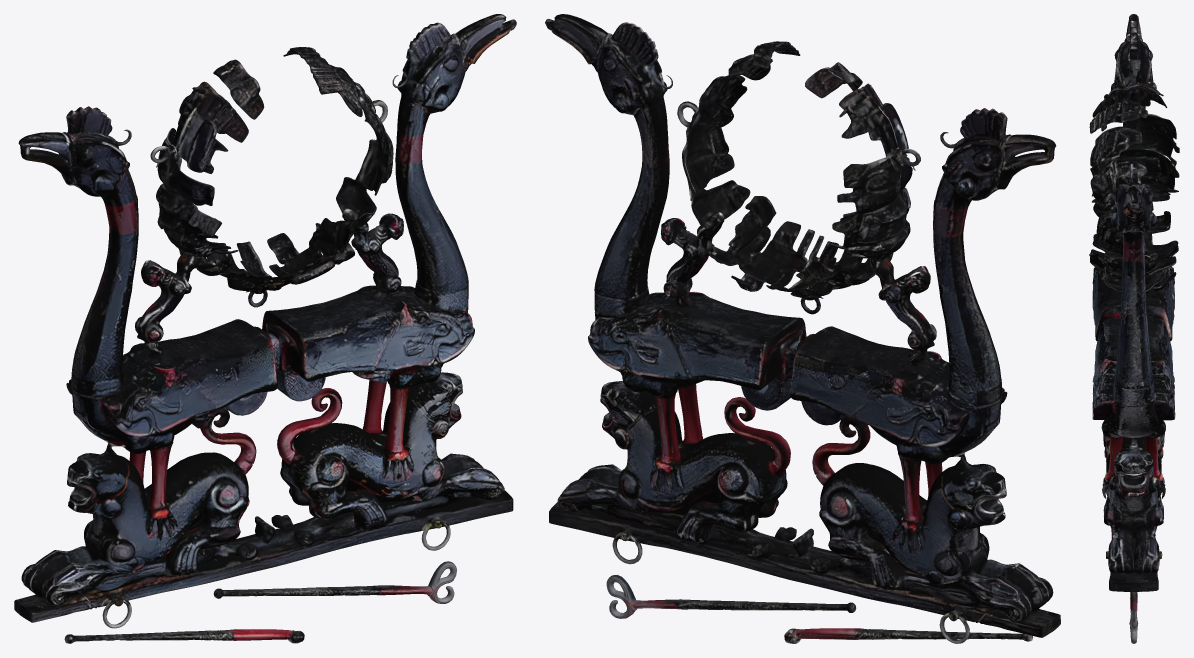
The model's file is dragon-ring.glb.
The picture shows the model from 3 angles, left to right: view 1: azimuth 30°, elevation 25°; view 2: azimuth 150°, elevation 25°; view 3: azimuth 270°, elevation 25°; orthographic projection. The views are drawn at different scales.
Visible parts, largest first — view 1: dragon-ring; view 2: dragon-ring; view 3: dragon-ring.
Boxes of the visible parts, x1,y1,x2,y2 form: dragon-ring: (14, 14, 516, 643); dragon-ring: (545, 14, 1060, 643); dragon-ring: (1089, 14, 1179, 643).
Size of the model in its own units: 0.8545 by 0.9727 by 0.1659.
Materials: 1 (1 with a texture image).
